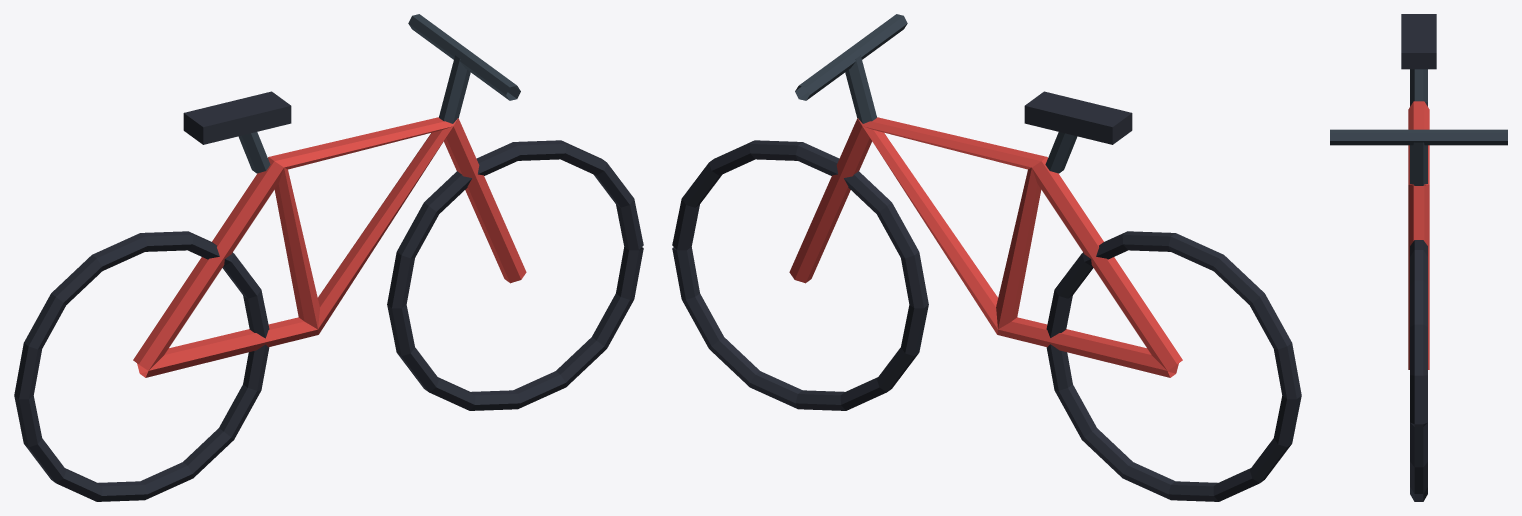
The model's file is bicicleta.glb.
3 views of the same model, side by side, from view 1: azimuth 30°, elevation 25°; view 2: azimuth 150°, elevation 25°; view 3: azimuth 270°, elevation 25° (orthographic). The views are drawn at different scales.
Parts seen in each view (by area): view 1: bicicleta; view 2: bicicleta; view 3: bicicleta.
Part boxes in pixels (x1,y1,x2,y2): bicicleta: (14, 14, 643, 501); bicicleta: (672, 14, 1301, 501); bicicleta: (1330, 14, 1507, 501).
Size of the model in its own units: 1.84 by 1.04 by 0.5.
